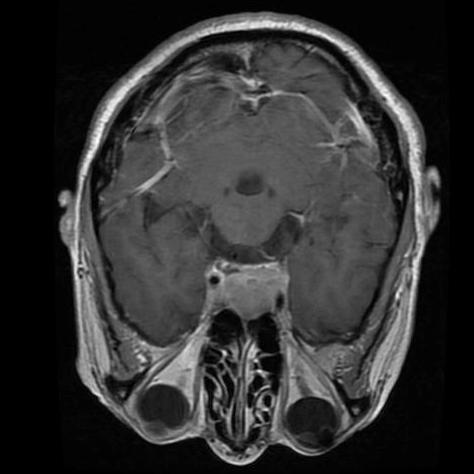Tumour-Pituitary: (203, 249, 295, 324)
